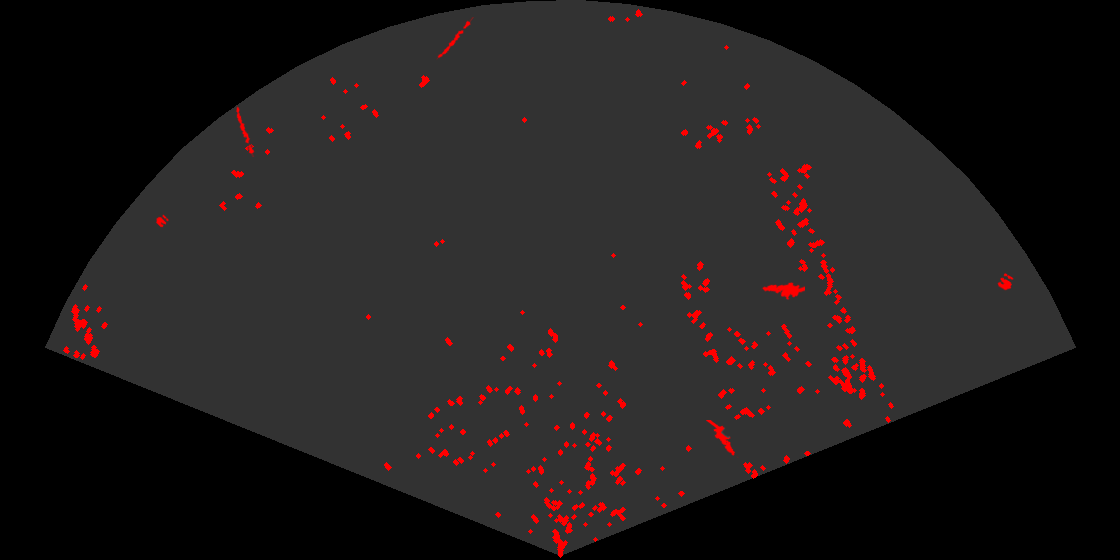ball: (996, 272, 1015, 292), (154, 213, 170, 229)
chain: (435, 17, 475, 61), (234, 104, 256, 157)
frogman: (706, 420, 740, 458), (761, 281, 805, 301)
